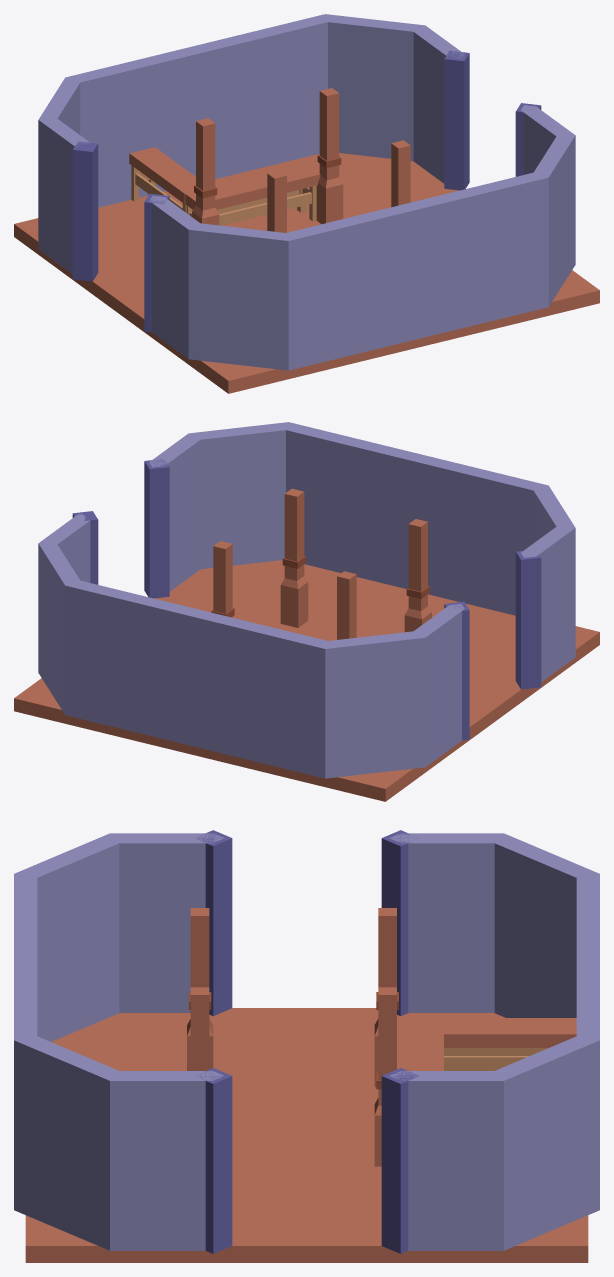
The model's file is Foyer.fbx.
3 renders of one model, top to bottom at view 1: azimuth 30°, elevation 25°; view 2: azimuth 150°, elevation 25°; view 3: azimuth 270°, elevation 25°, orthographic. The views are drawn at different scales.
Parts seen in each view (by area): view 1: wall_cornerEdge (×4), wall (×2), porch_floorCenter (×8), wall_sides (×2), column_westernLarge (×4), furniture_bench (×2); view 2: wall_cornerEdge (×4), wall (×2), porch_floorCenter (×8), wall_sides (×2), column_westernLarge (×4); view 3: wall_cornerEdge (×4), porch_floorCenter (×6), wall_sides (×2), furniture_bench (×2), column_westernLarge (×4), wall (×2).
Boxes of the visible parts, x1,y1,x2,y2 form: wall_cornerEdge (×4): (38,14,575,370); wall (×2): (130,30,482,353); porch_floorCenter (×8): (14,153,599,393); wall_sides (×2): (72,50,541,332); column_westernLarge (×4): (192,88,410,232); furniture_bench (×2): (129,147,320,225); wall_cornerEdge (×4): (38,422,575,778); wall (×2): (132,439,481,761); porch_floorCenter (×8): (14,560,599,801); wall_sides (×2): (72,459,541,740); column_westernLarge (×4): (211,488,431,639); wall_cornerEdge (×4): (14,833,599,1250); porch_floorCenter (×6): (25,1008,588,1262); wall_sides (×2): (195,830,418,1253); furniture_bench (×2): (397,1018,576,1070); column_westernLarge (×4): (187,908,398,1166); wall (×2): (14,915,599,1001).
Size of the model in its own units: 32.05 by 11 by 31.25.
